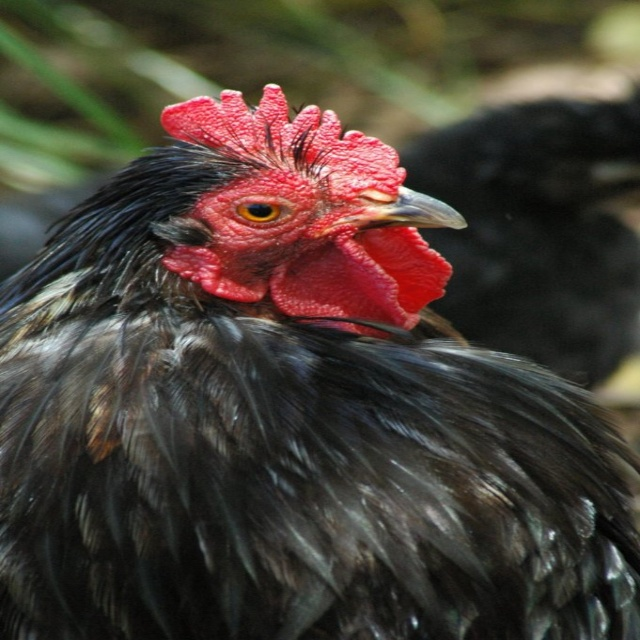Chicken: (0, 83, 640, 640)
